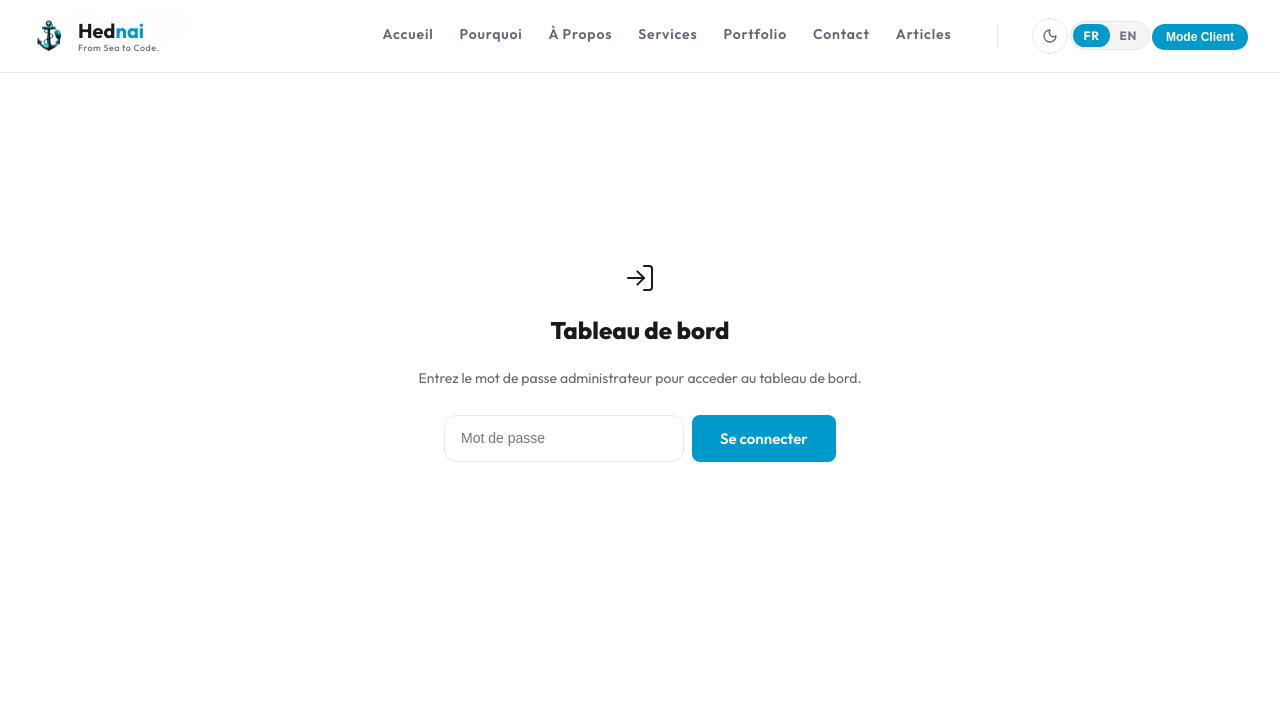
Test case: Dashboard admin › affiche le dashboard avec un token valide (mock)
Type "token-test" into the password field with placeholder "Mot de passe". click: (564, 439)
box: left=444, top=415, right=684, bottom=462
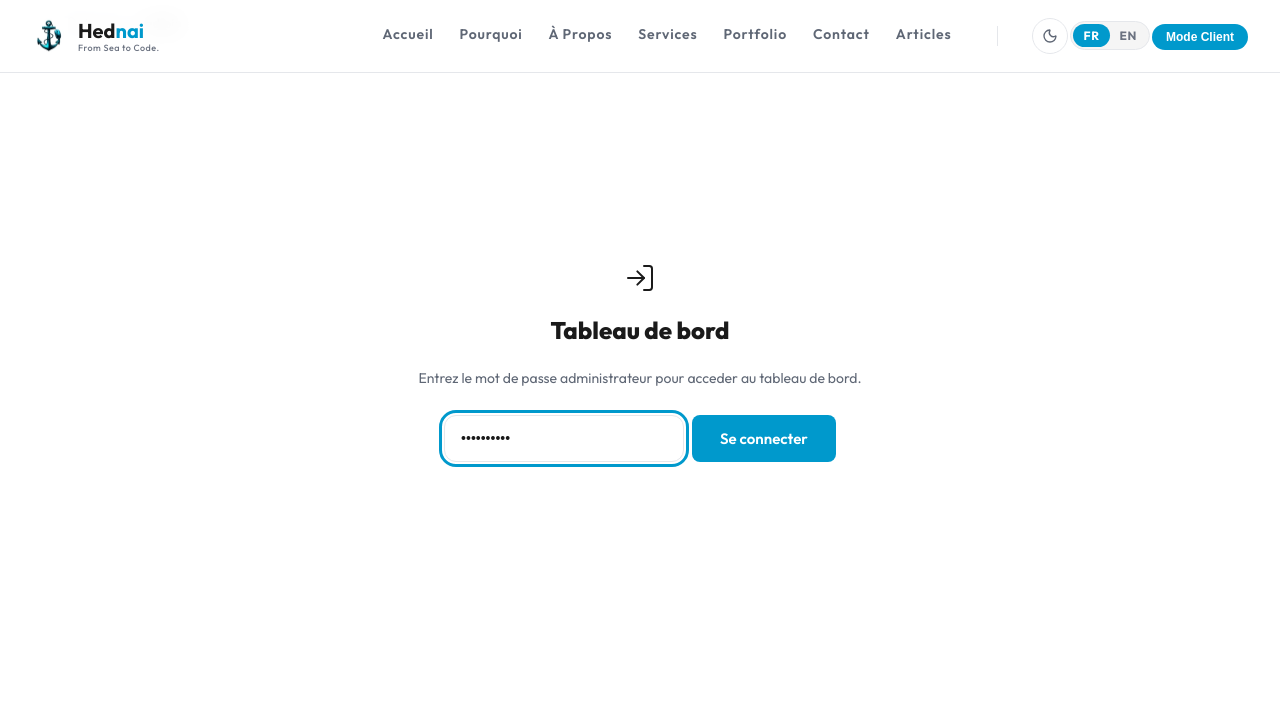
Click the button with class "btn--primary". click: (764, 439)
box: left=692, top=415, right=836, bottom=462
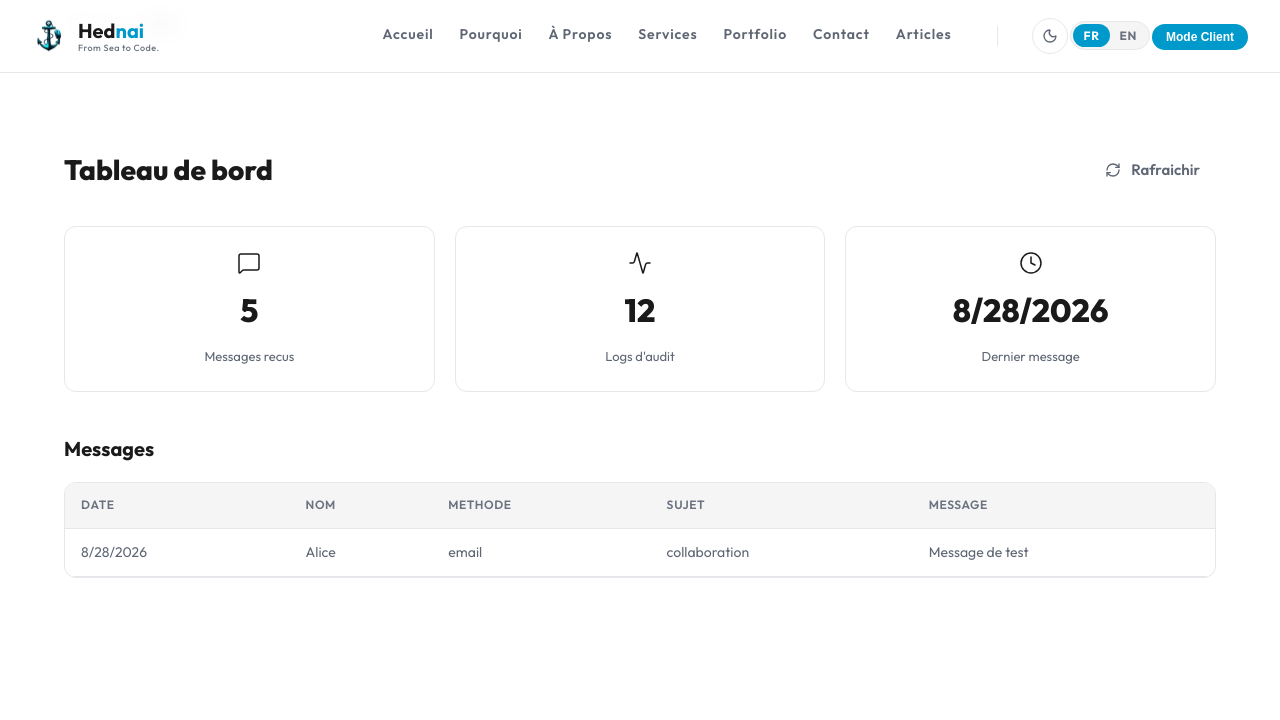
Result: the element with class "dashboard__stats-grid" is shown at left=64, top=226, right=1216, bottom=393
Result: the table with class "dashboard__table" is shown at left=65, top=483, right=1215, bottom=577
